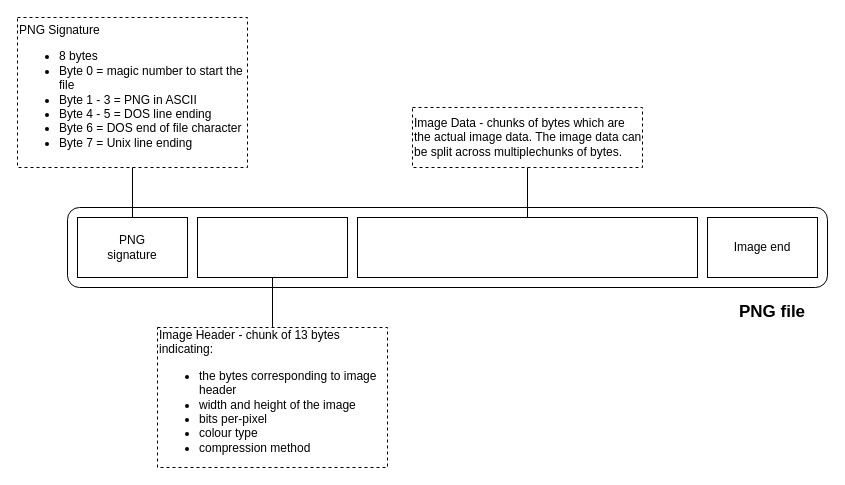
The diagram is 845 pixels wide and 485 high, and some of its shapes have lost their labels. The centre of each missing label's shape, as x and y in pixels:
"Image data" goes at point (527, 247).
"Image header" goes at point (272, 247).
